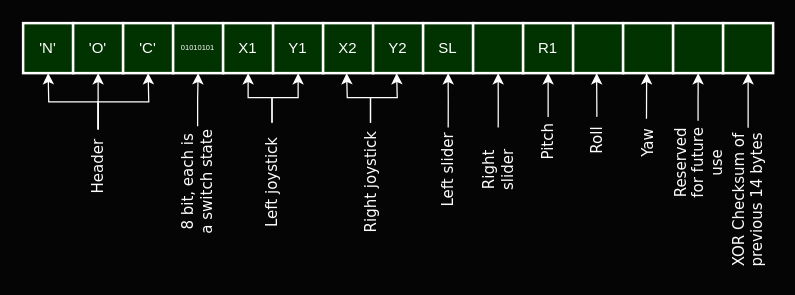
Some shapes in this 795 by 295 pixel diagram are drawn without their labels. The shapes that lost their labels are listed below. From the top down, each one's box as (x1, y1, x2, y2) in pixels, then its label:
(471, 21, 524, 74): SR
(571, 21, 624, 74): R2
(621, 21, 674, 74): R3
(671, 21, 724, 74): R4
(721, 21, 774, 74): XOR Checksum
